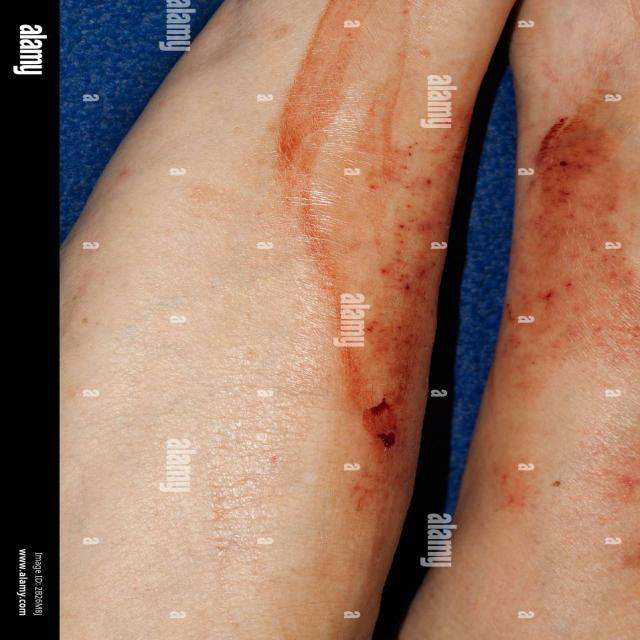Eczema: (289, 0, 446, 436), (515, 91, 640, 372)
